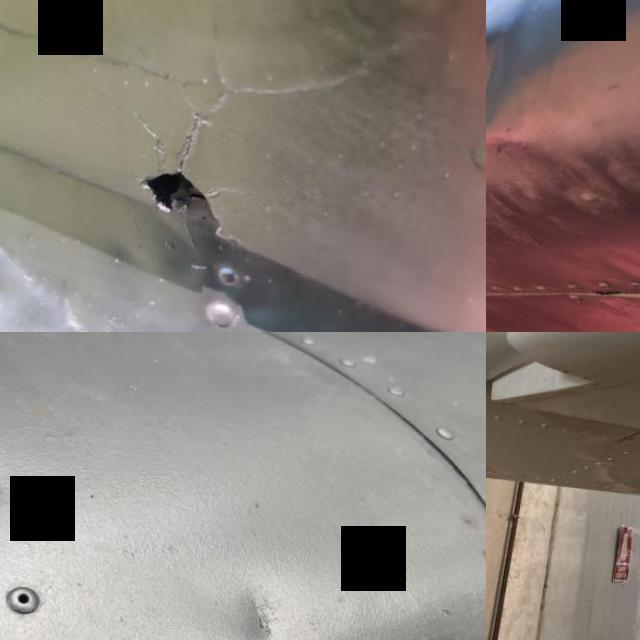Crack: (116, 58, 366, 252)
Dent: (486, 0, 555, 157), (196, 564, 327, 640)
